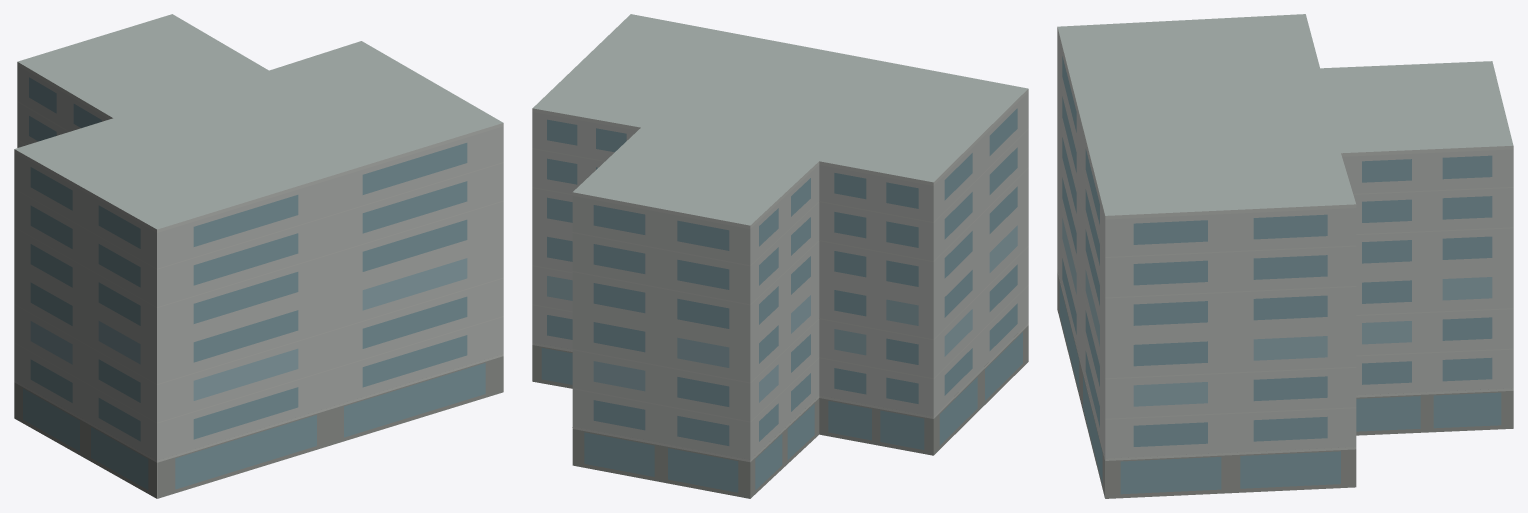
Rendered from survey-upis-32916672.glb.
3 views of the same model, side by side, from view 1: azimuth 30°, elevation 25°; view 2: azimuth 150°, elevation 25°; view 3: azimuth 270°, elevation 25° (orthographic). The views are drawn at different scales.
Visible parts, largest first — view 1: survey-upis-32916672.tmp; view 2: survey-upis-32916672.tmp; view 3: survey-upis-32916672.tmp.
Part boxes in pixels (box(x1,y1,x2,y2)): survey-upis-32916672.tmp: box(14, 14, 503, 498); survey-upis-32916672.tmp: box(532, 14, 1028, 498); survey-upis-32916672.tmp: box(1057, 14, 1513, 498).
Size of the model in its own units: 28.79 by 18.8 by 27.48.
